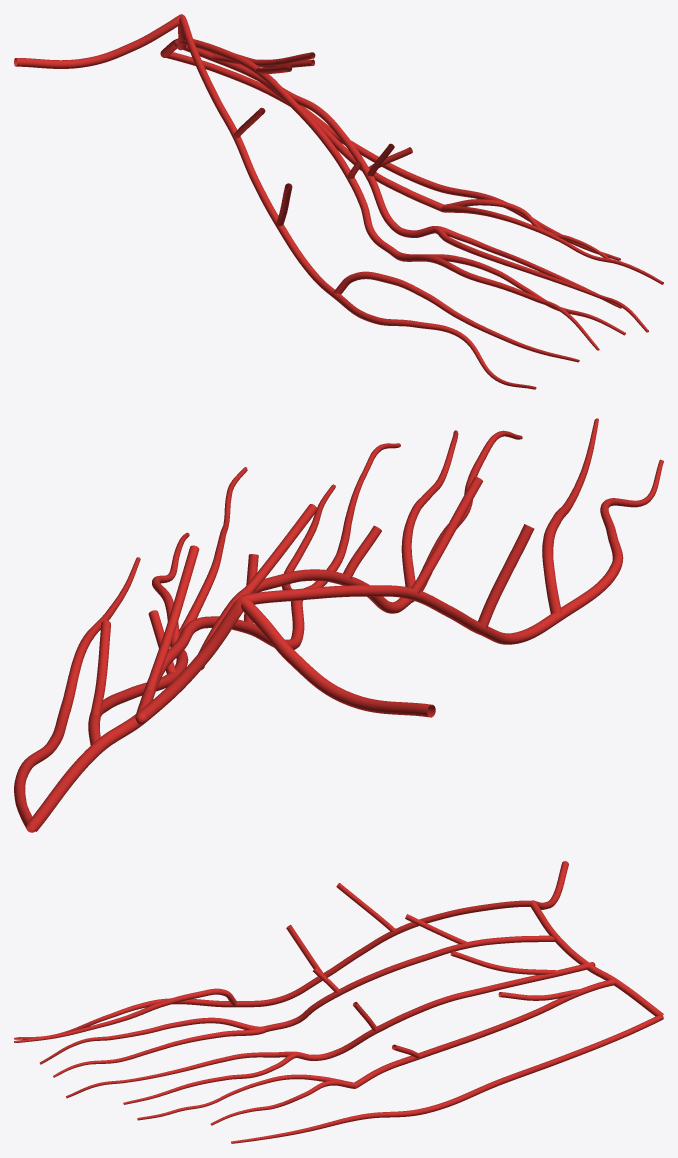
The model's file is circulatorio-plantar-arch-l.glb.
3 views of the same model, one above another, from view 1: azimuth 30°, elevation 25°; view 2: azimuth 150°, elevation 25°; view 3: azimuth 270°, elevation 25° (orthographic). The views are drawn at different scales.
Visible parts, largest first — view 1: Proper plantar digital arteries.l, Plantar metatarsal arteries.l, Common plantar digital arteries.l, Perforating branches of plantar metatarsal arteries.l, Plantar arch.l; view 2: Proper plantar digital arteries.l, Perforating branches of plantar metatarsal arteries.l, Plantar arch.l, Plantar metatarsal arteries.l, Common plantar digital arteries.l; view 3: Proper plantar digital arteries.l, Plantar metatarsal arteries.l, Perforating branches of plantar metatarsal arteries.l, Common plantar digital arteries.l, Plantar arch.l.
Part boxes in pixels (x1,y1,x2,y2): Proper plantar digital arteries.l: (166, 52, 663, 389); Plantar metatarsal arteries.l: (173, 15, 369, 225); Common plantar digital arteries.l: (276, 172, 443, 297); Perforating branches of plantar metatarsal arteries.l: (212, 52, 412, 226); Plantar arch.l: (14, 14, 186, 68); Proper plantar digital arteries.l: (14, 418, 663, 832); Perforating branches of plantar metatarsal arteries.l: (90, 476, 534, 715); Plantar arch.l: (27, 595, 435, 831); Plantar metatarsal arteries.l: (88, 569, 485, 745); Common plantar digital arteries.l: (170, 577, 561, 675); Proper plantar digital arteries.l: (14, 988, 663, 1143); Plantar metatarsal arteries.l: (323, 900, 615, 1059); Perforating branches of plantar metatarsal arteries.l: (286, 883, 580, 1058); Common plantar digital arteries.l: (235, 976, 419, 1088); Plantar arch.l: (530, 861, 663, 1016).
Size of the model in its own units: 0.0839 by 0.0353 by 0.1436.
